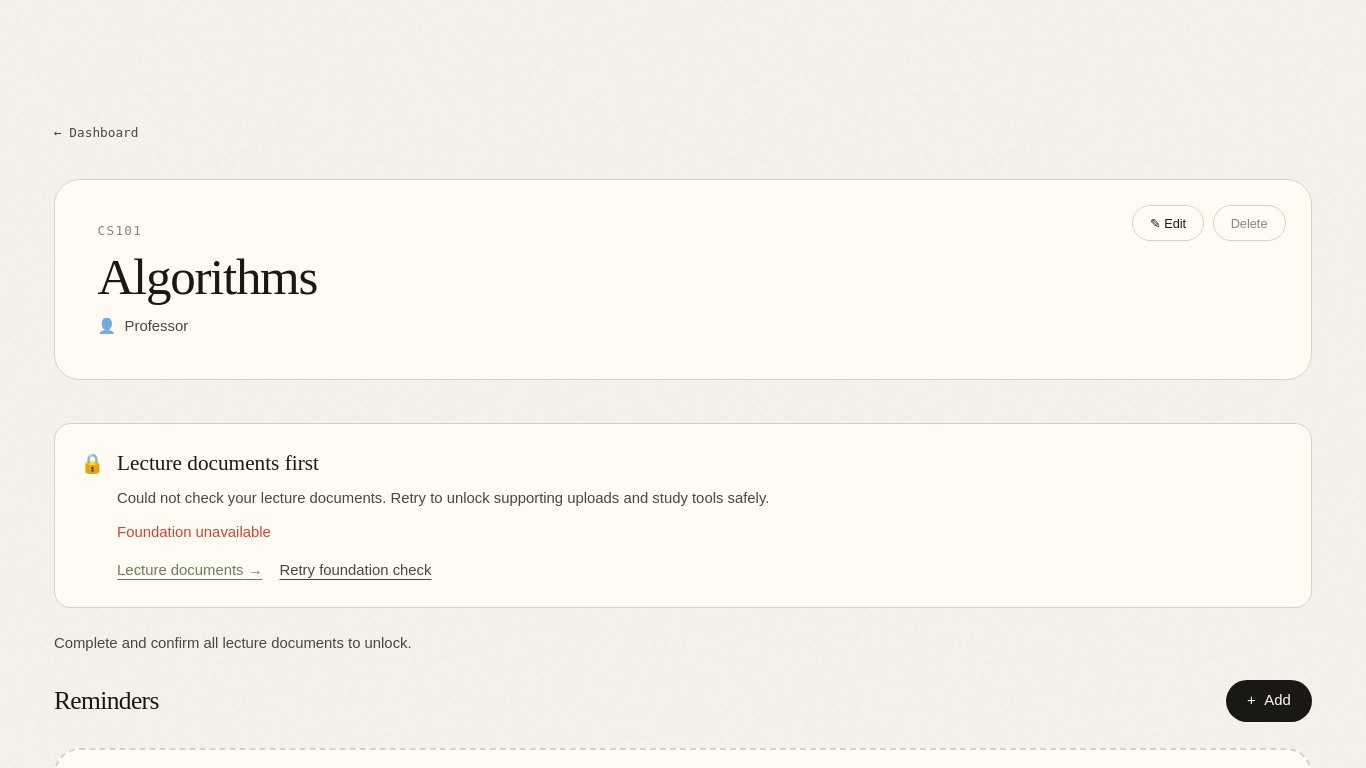
Scenario: course document foundation › keeps failed foundation requests locked and recovers through retry
The image size is (1366, 768).
Expected: the text "Foundation unavailable" is shown, [117,524,271,540]
Click the button "Retry foundation check" at x=356, y=570, box [280,560,432,581]
(page scrolled)
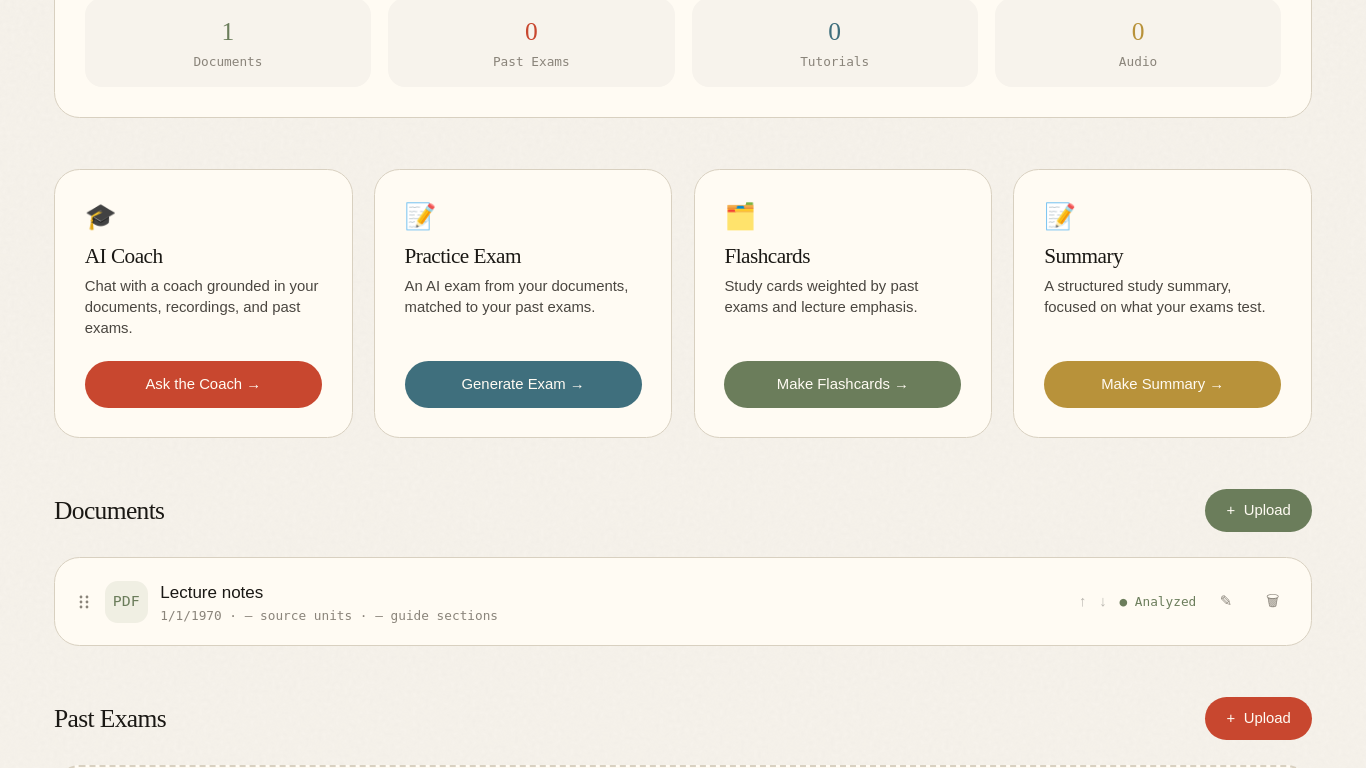
Now the link "Generate Exam →" is shown, box [405,361,642,408]
